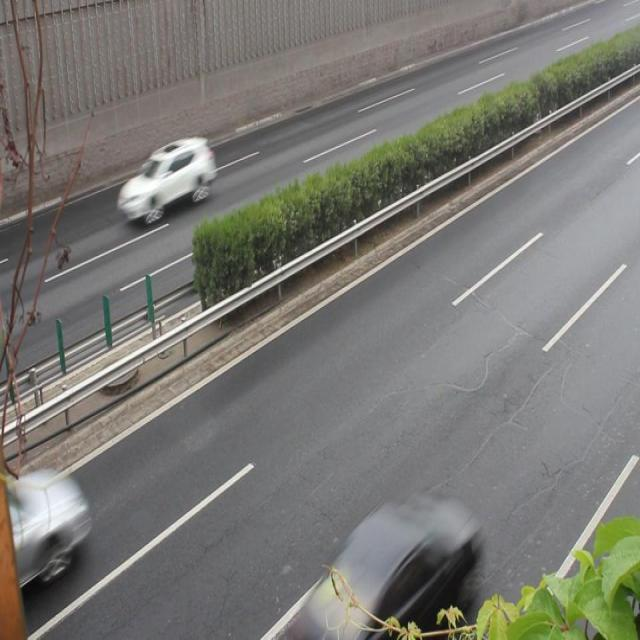car: (116, 133, 217, 221)
